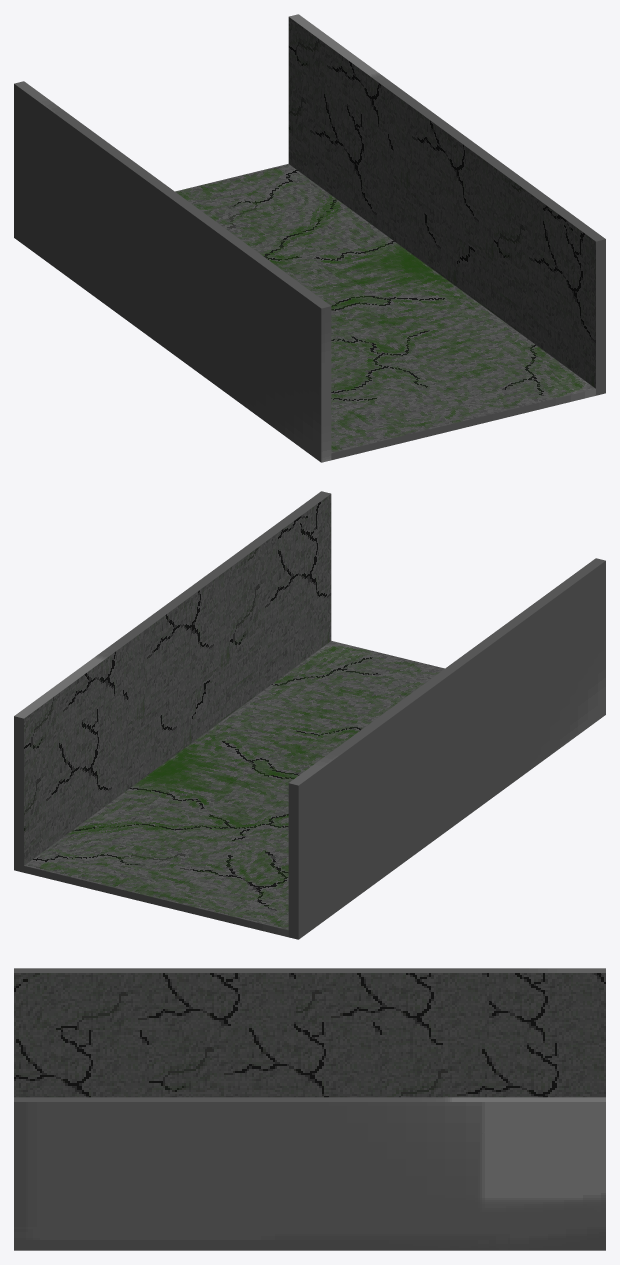
The model's file is Alley.gltf.
3 views of the same model, one above another, from view 1: azimuth 30°, elevation 25°; view 2: azimuth 150°, elevation 25°; view 3: azimuth 270°, elevation 25° (orthographic). The views are drawn at different scales.
Parts seen in each view (by area): view 1: Wa ll (×2), Ground; view 2: Wa ll (×2), Ground; view 3: Wa ll (×2).
Part boxes in pixels (left/top/right/bottom): Wa ll (×2): left=14, top=14, right=605, bottom=462; Ground: left=175, top=164, right=595, bottom=460; Wa ll (×2): left=14, top=491, right=605, bottom=939; Ground: left=24, top=641, right=444, bottom=937; Wa ll (×2): left=14, top=968, right=605, bottom=1250.
Bounding box in the file's own units: 0.5312 × 0.275 × 0.9938.
1 material, 1 textured.
